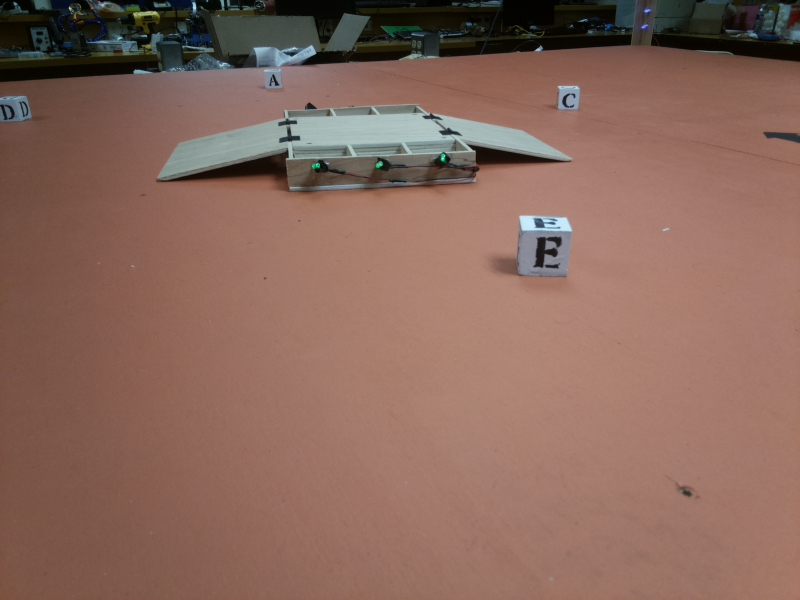blockA: (261, 70, 284, 92)
blockC: (557, 83, 583, 111)
blockD: (2, 95, 38, 123)
blockE: (516, 214, 577, 294)
corner: (627, 1, 656, 52)
side: (286, 139, 474, 186)
slope: (157, 112, 285, 184), (439, 115, 576, 164)
start: (759, 125, 800, 145)
